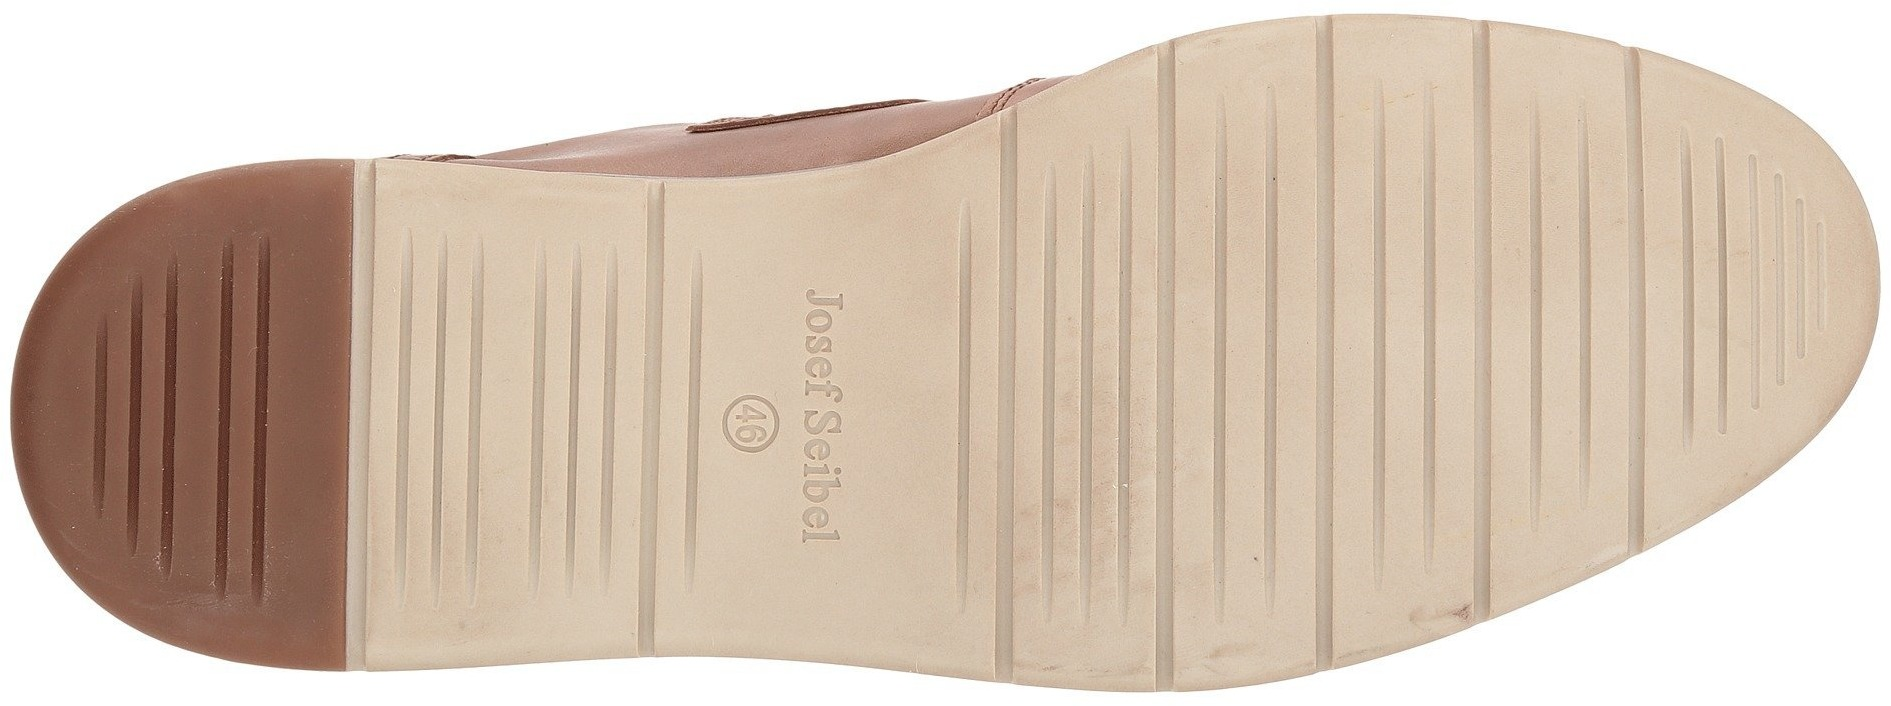quad: (1204, 159, 1480, 395), (947, 278, 1195, 527), (1493, 142, 1725, 384), (92, 282, 318, 489), (388, 286, 603, 496), (1211, 404, 1383, 590), (1733, 205, 1842, 327)
text: (724, 428, 874, 568), (724, 272, 867, 413)
